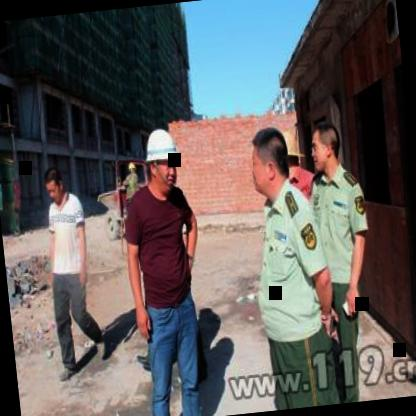helmet: (140, 122, 182, 194), (126, 160, 136, 176)
